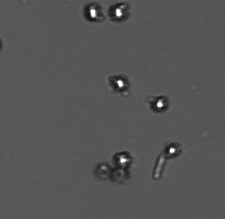Dead Cell: (94, 160, 111, 181), (111, 167, 129, 183)
Living Cell: (83, 2, 105, 23), (109, 73, 131, 94), (109, 1, 128, 23), (113, 149, 133, 167), (162, 142, 182, 159), (150, 94, 168, 112)
